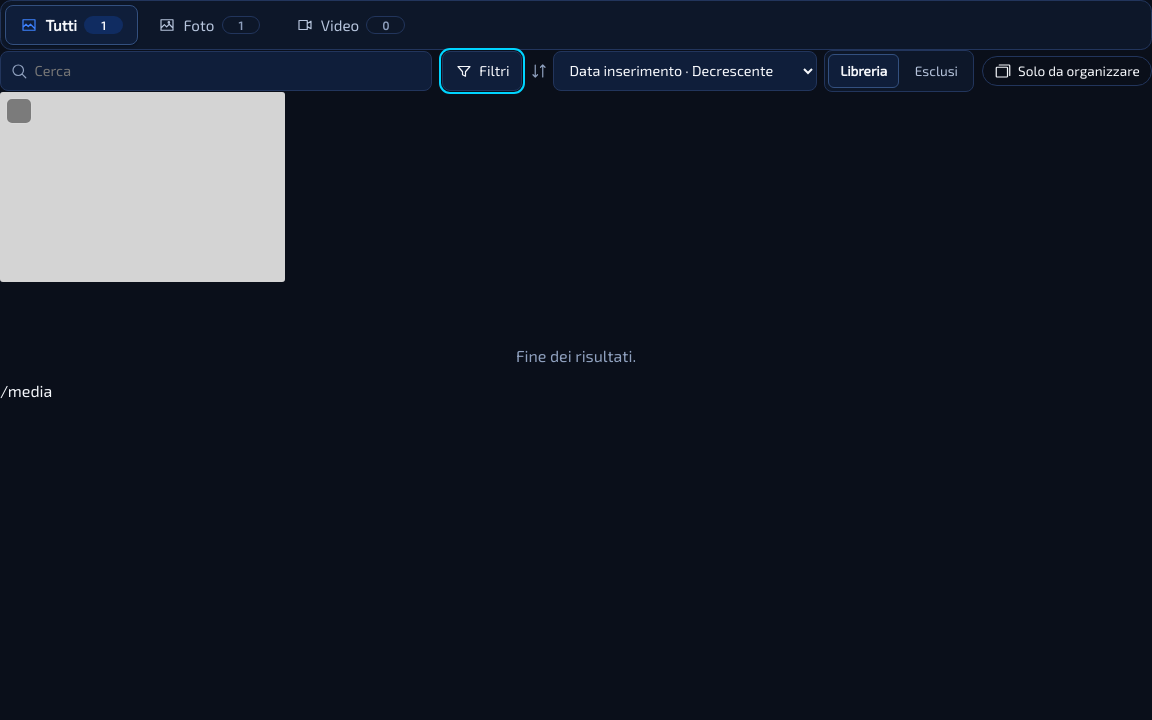
Test: viewer similarity actions — destinations from the Library origin › Find similar applies the anchor in place and closes the viewer
Click the button named "Apri photo.jpg" at coordinates (142, 187), box [0,92,285,282]
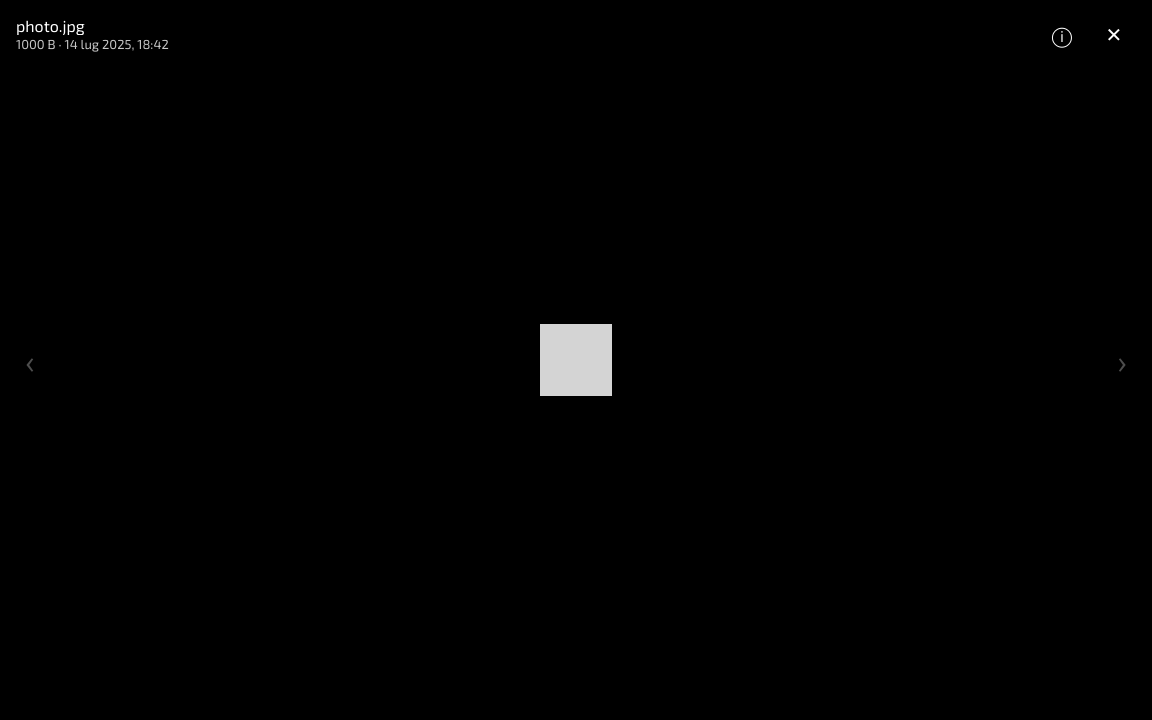
Click the button with test id "viewer-details-toggle" at coordinates (1062, 34), box [1040,12,1084,56]
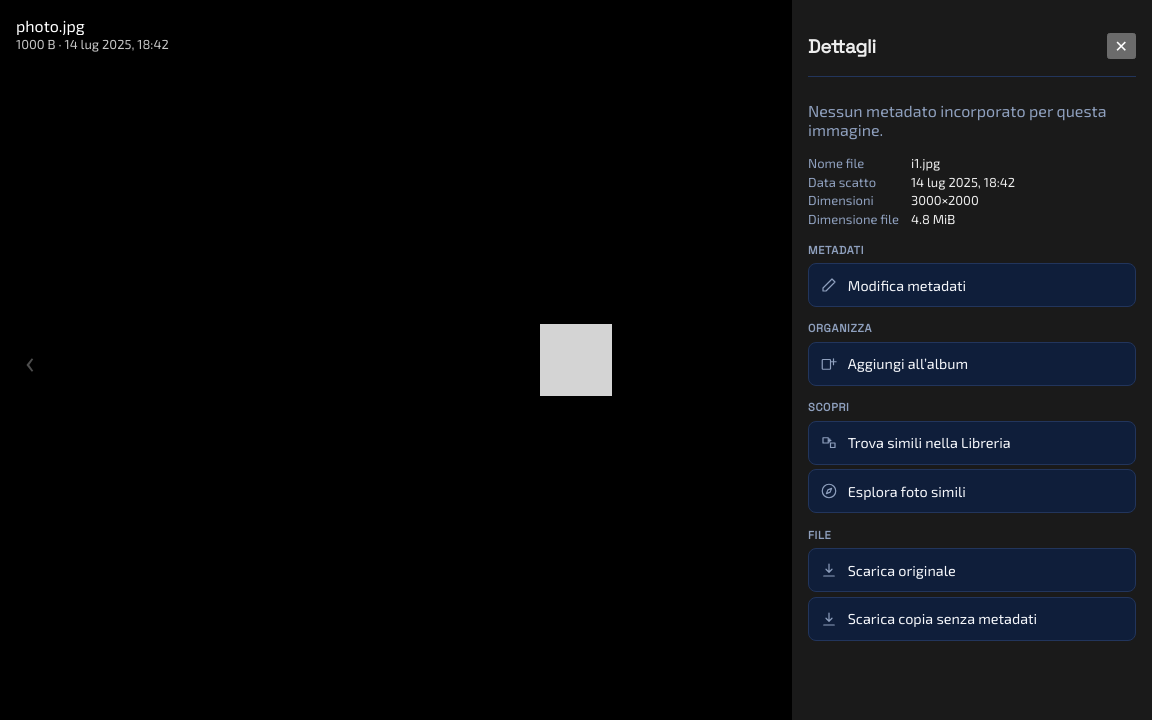
Click the button with test id "viewer-find-similar" at coordinates (972, 443), box [808,421,1136,465]
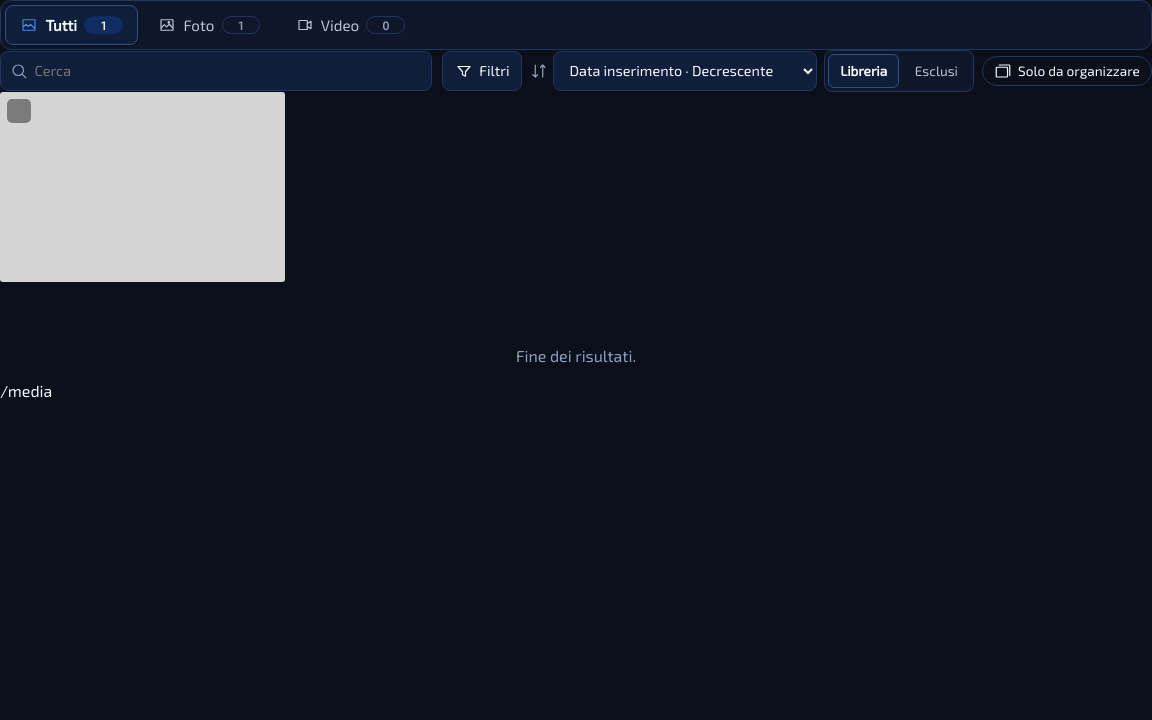
Expected: the text with test id "loc" reads "/media", [0,381,52,400]
Expected: the button with test id "viewer-details-toggle" is gone
